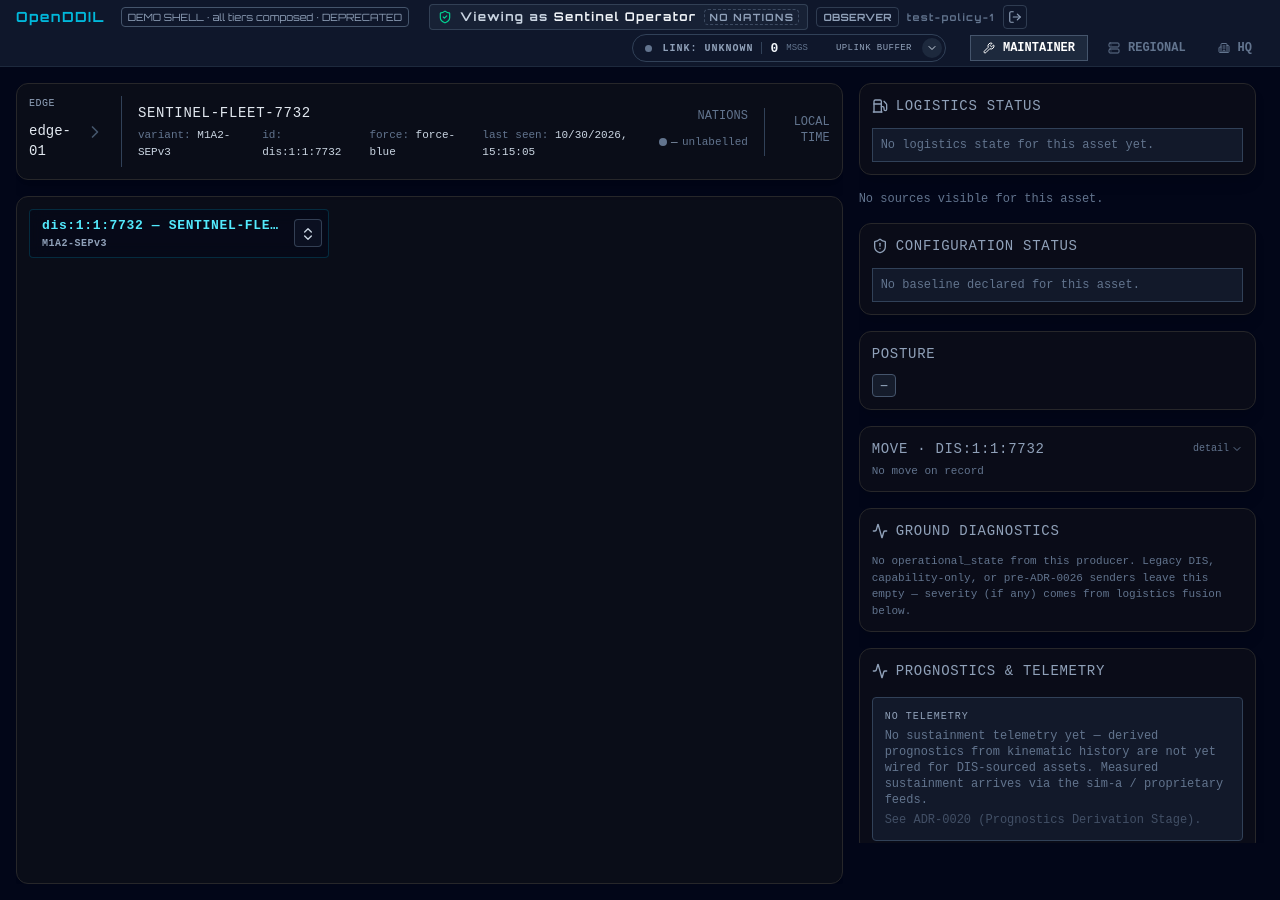
?asset= round-trip › an initial ?asset=X selects X, and switching assets updates the URL while keeping ?role=
The width and height of the screenshot is (1280, 900).
Click the button named "Switch asset" at {"x": 308, "y": 234}, box [294, 220, 322, 248]
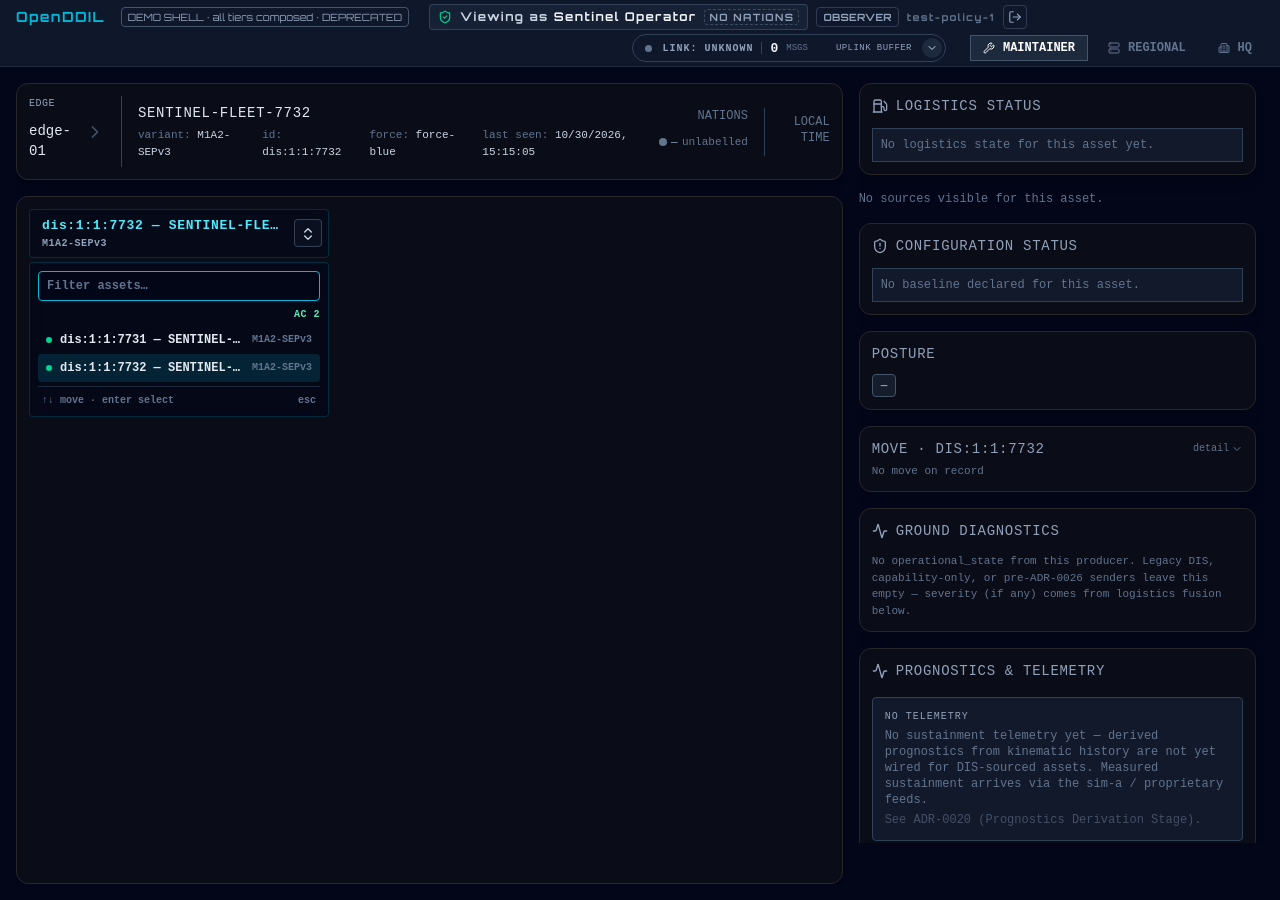
Click the option "dis:1:1:7731 — SENTINEL-FLEET-7731 M1A2-SEPv3" at {"x": 179, "y": 340}, box [46, 333, 312, 347]
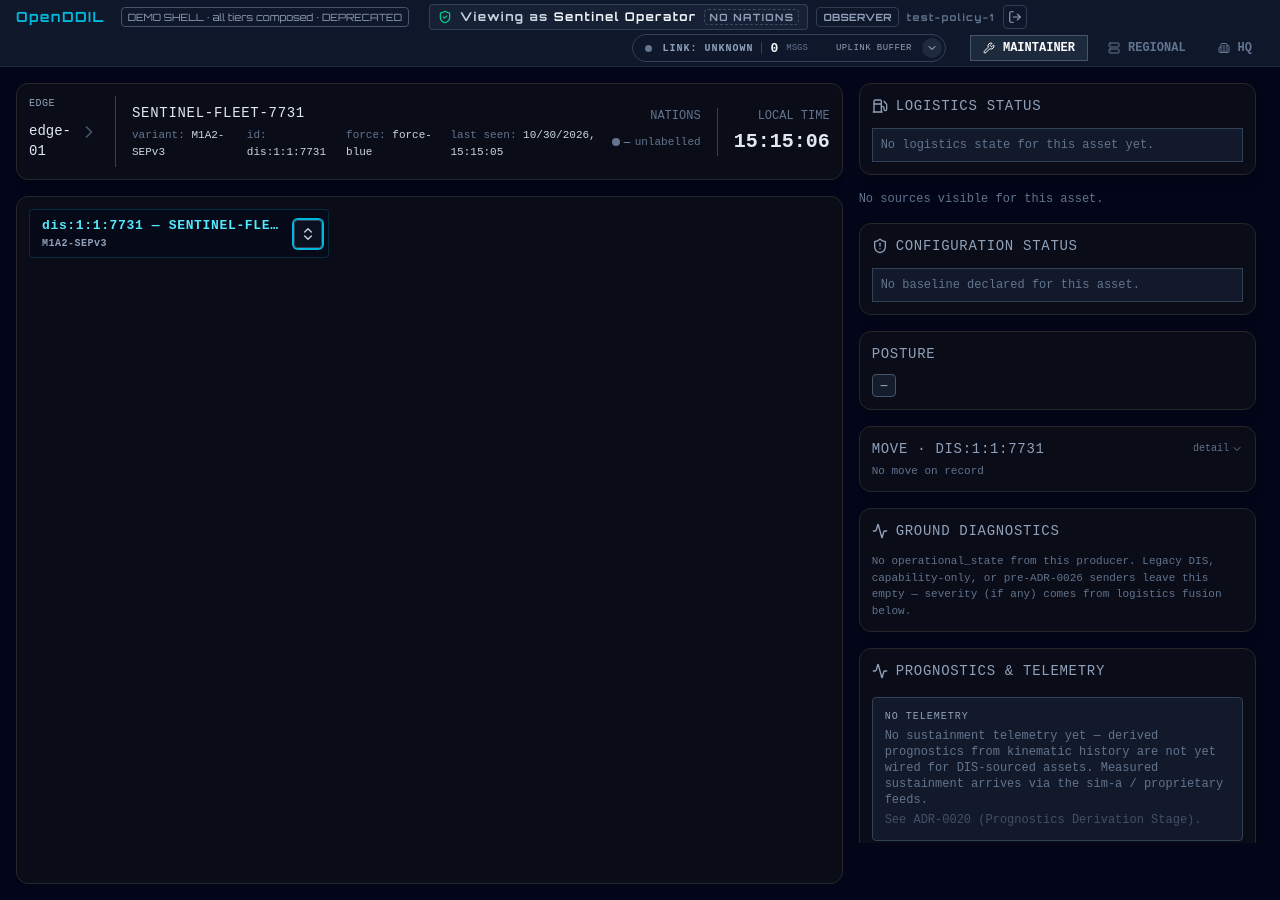
Result: the text "dis:1:1:7731" is shown at [247, 146, 326, 158]
